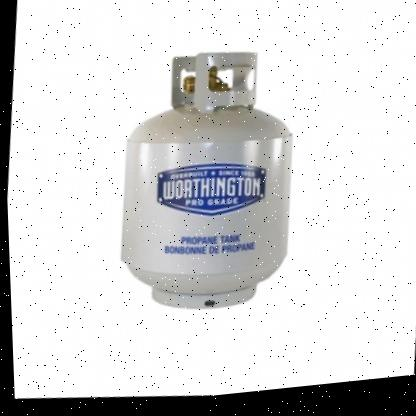gas-tank: (92, 25, 321, 342)
